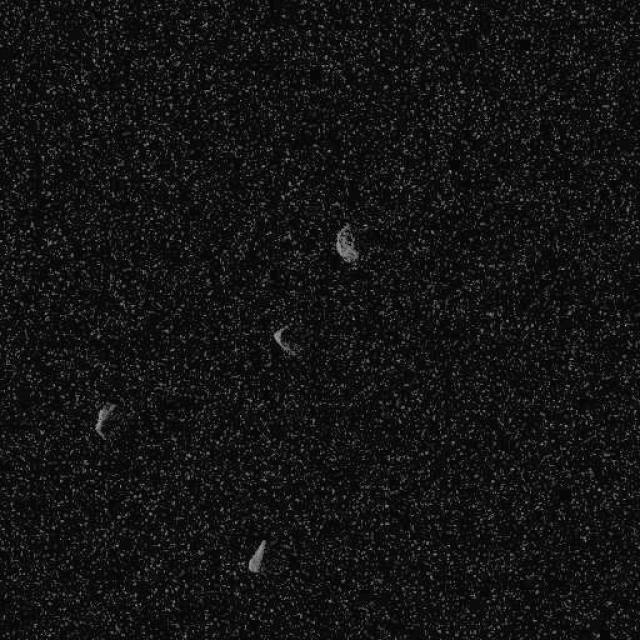D2: (334, 222, 360, 264), (271, 322, 300, 358), (92, 400, 116, 440), (246, 538, 268, 574)
